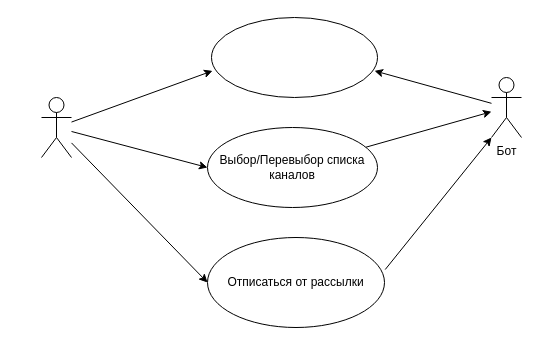
This 539x345 diagram has some shape labels left out. Each missing label, with the centre of its shape:
"Получение новостей по ключевым словам" belongs at [294,57].
"Пользователь" belongs at [56,127].
